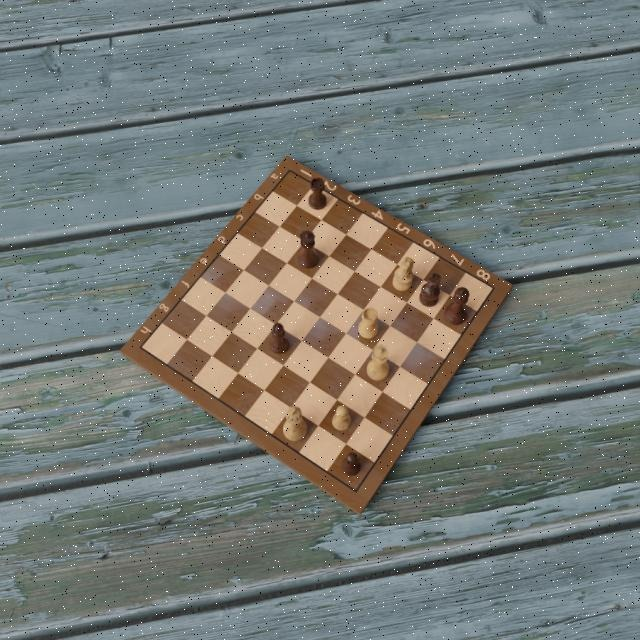black-bishop: (270, 321, 290, 354)
black-king: (442, 286, 470, 326), (283, 405, 307, 443)
black-knight: (419, 272, 442, 308)
black-pawn: (340, 450, 363, 477)
black-rook: (308, 176, 328, 211)
white-knight: (390, 256, 413, 294)
white-pawn: (331, 404, 351, 432)
white-queen: (295, 229, 320, 271), (366, 341, 389, 383)
white-rook: (357, 305, 379, 340)
